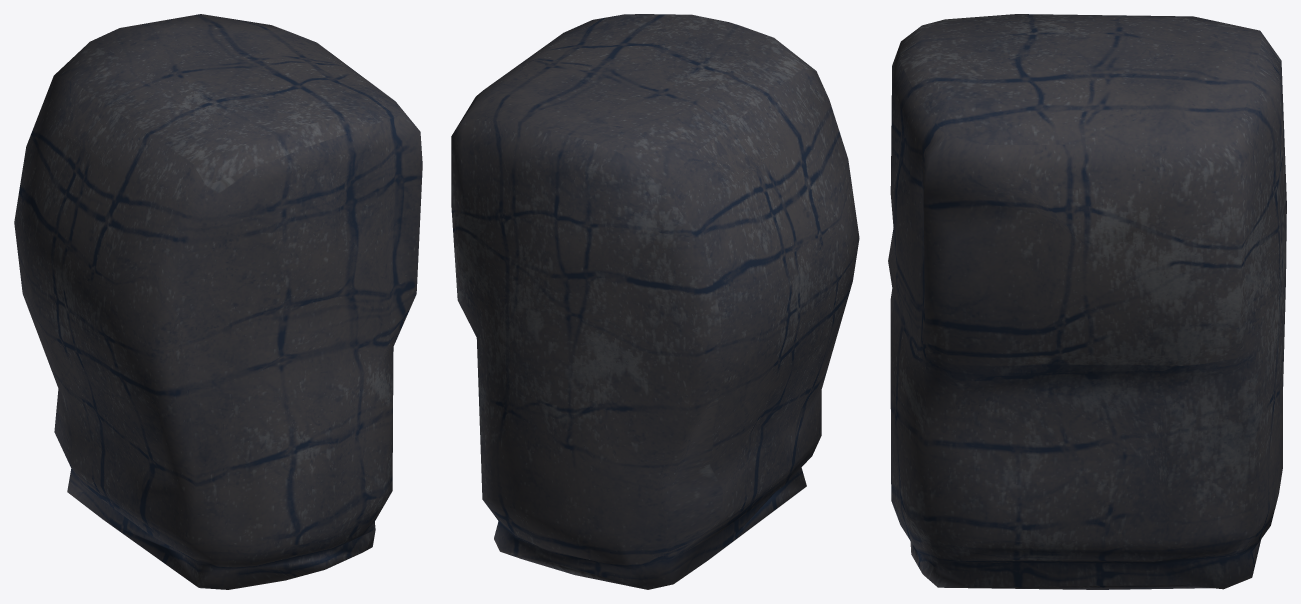
The model's file is obstacle_grand2.obj.
3 views of the same model, side by side, from view 1: azimuth 30°, elevation 25°; view 2: azimuth 150°, elevation 25°; view 3: azimuth 270°, elevation 25° (orthographic). The views are drawn at different scales.
Visible parts, largest first — view 1: obstacle_grand2.001; view 2: obstacle_grand2.001; view 3: obstacle_grand2.001.
Part boxes in pixels (left/top/right/bottom): obstacle_grand2.001: left=14, top=14, right=422, bottom=589; obstacle_grand2.001: left=451, top=14, right=859, bottom=589; obstacle_grand2.001: left=888, top=14, right=1286, bottom=589.
Bounding box in the file's own units: 2379 × 3331 × 2439.
1 material, 1 textured.
